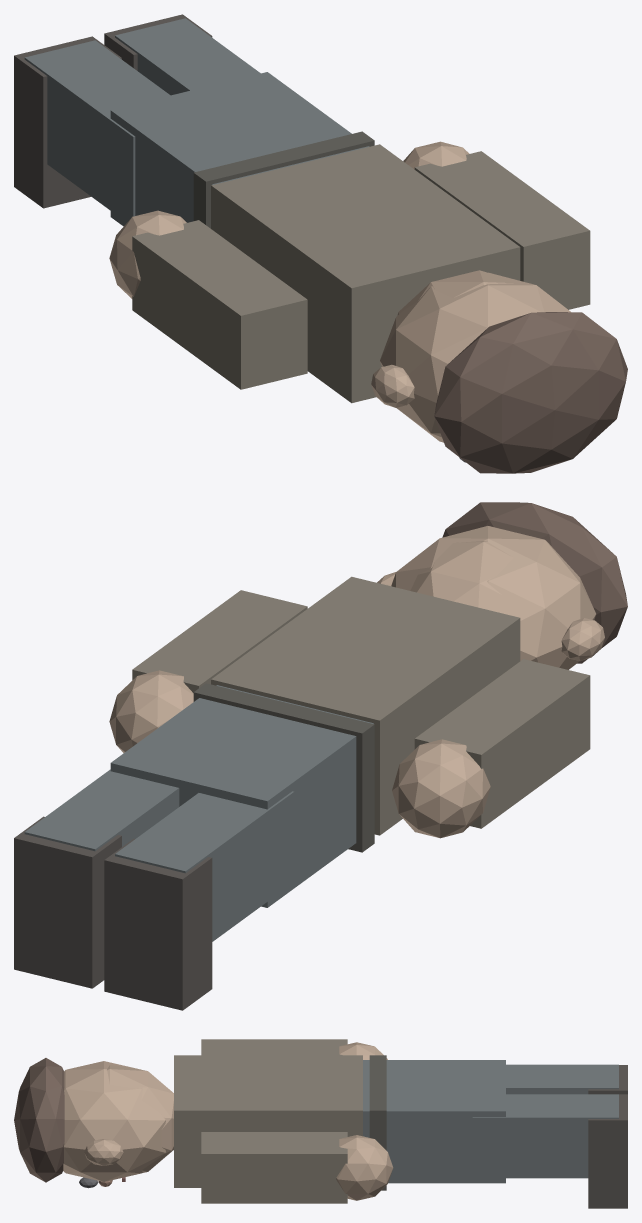
Rendered from hero_female_broad.glb.
3 renders of one model, top to bottom at view 1: azimuth 30°, elevation 25°; view 2: azimuth 150°, elevation 25°; view 3: azimuth 270°, elevation 25°, orthographic. The views are drawn at different scales.
Visible parts, largest first — view 1: part_00, part_19, part_06, part_01, part_04, part_12, part_02, part_10, part_05, part_18, part_07, part_09 (+3 smaller); view 2: part_00, part_01, part_06, part_05, part_04, part_11, part_02, part_19, part_12, part_07, part_10, part_18 (+3 smaller); view 3: part_00, part_01, part_12, part_10, part_02, part_19, part_11, part_04, part_13, part_06, part_03, part_18 (+3 smaller).
Part boxes in pixels (bbox=[...]): part_00: bbox=[211, 144, 520, 403]; part_19: bbox=[434, 312, 627, 473]; part_06: bbox=[132, 220, 307, 389]; part_01: bbox=[110, 72, 369, 226]; part_04: bbox=[24, 40, 170, 222]; part_12: bbox=[414, 151, 590, 309]; part_02: bbox=[380, 272, 570, 442]; part_10: bbox=[115, 18, 260, 95]; part_05: bbox=[14, 36, 121, 208]; part_18: bbox=[193, 131, 374, 228]; part_07: bbox=[109, 210, 186, 298]; part_09: bbox=[371, 364, 414, 407]; part_00: bbox=[211, 576, 520, 835]; part_01: bbox=[110, 685, 373, 907]; part_06: bbox=[414, 659, 590, 828]; part_05: bbox=[104, 838, 212, 1010]; part_04: bbox=[115, 791, 294, 941]; part_11: bbox=[14, 816, 121, 988]; part_02: bbox=[391, 526, 595, 669]; part_19: bbox=[442, 502, 627, 663]; part_12: bbox=[132, 590, 307, 692]; part_07: bbox=[392, 739, 490, 838]; part_10: bbox=[24, 769, 179, 851]; part_18: bbox=[193, 683, 374, 852]; part_00: bbox=[174, 1055, 362, 1187]; part_01: bbox=[363, 1060, 505, 1183]; part_12: bbox=[201, 1132, 347, 1203]; part_10: bbox=[472, 1094, 618, 1178]; part_02: bbox=[63, 1061, 165, 1181]; part_19: bbox=[14, 1058, 64, 1182]; part_11: bbox=[588, 1094, 627, 1208]; part_04: bbox=[506, 1064, 618, 1094]; part_13: bbox=[336, 1135, 393, 1200]; part_06: bbox=[201, 1039, 347, 1055]; part_03: bbox=[107, 1065, 173, 1172]; part_18: bbox=[369, 1055, 386, 1190].
Bounding box in the file's own units: 0.93 × 0.435 × 2.02.
